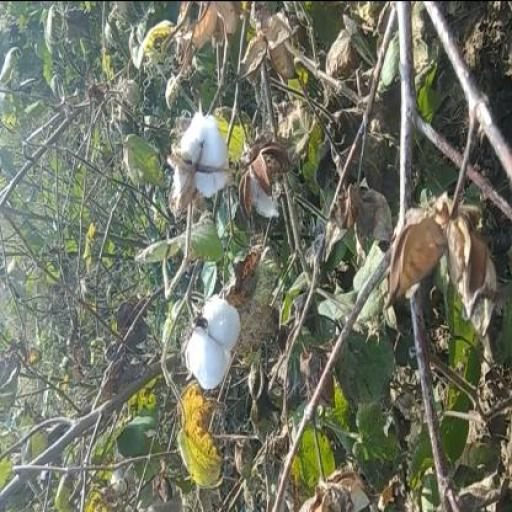cotton_ready: (160, 95, 244, 216), (172, 281, 250, 402)
